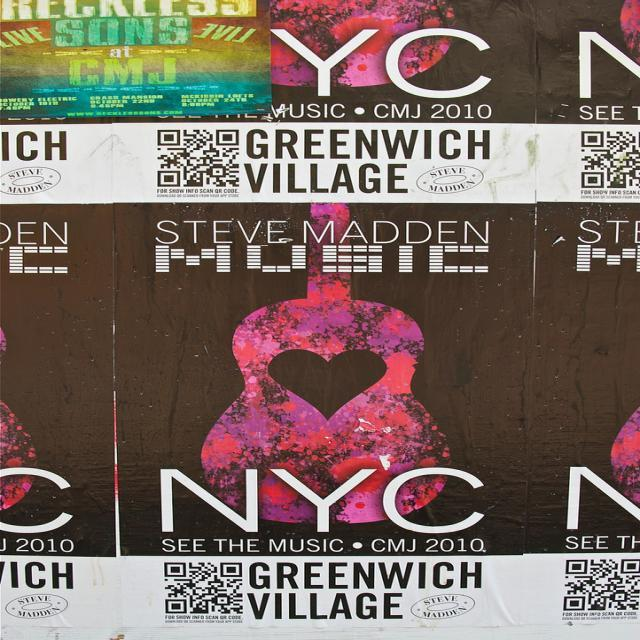qrcode: (158, 131, 239, 188), (165, 564, 243, 614), (564, 560, 640, 611), (583, 133, 640, 189)
